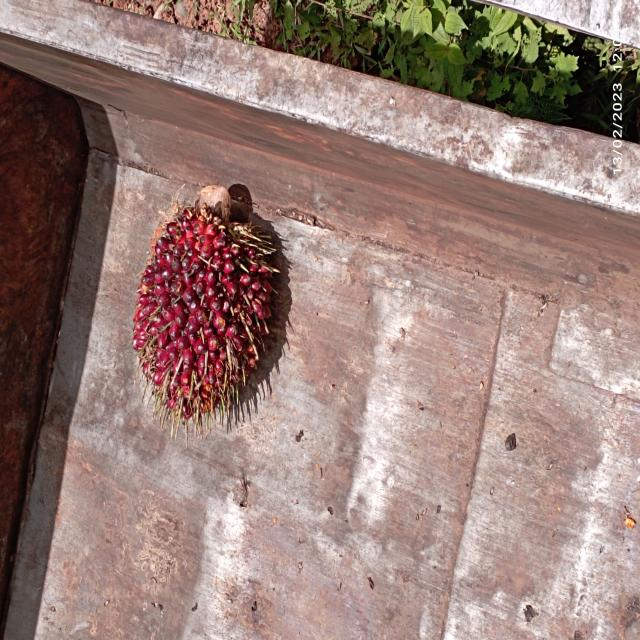fraksi 3: (113, 136, 303, 450)
